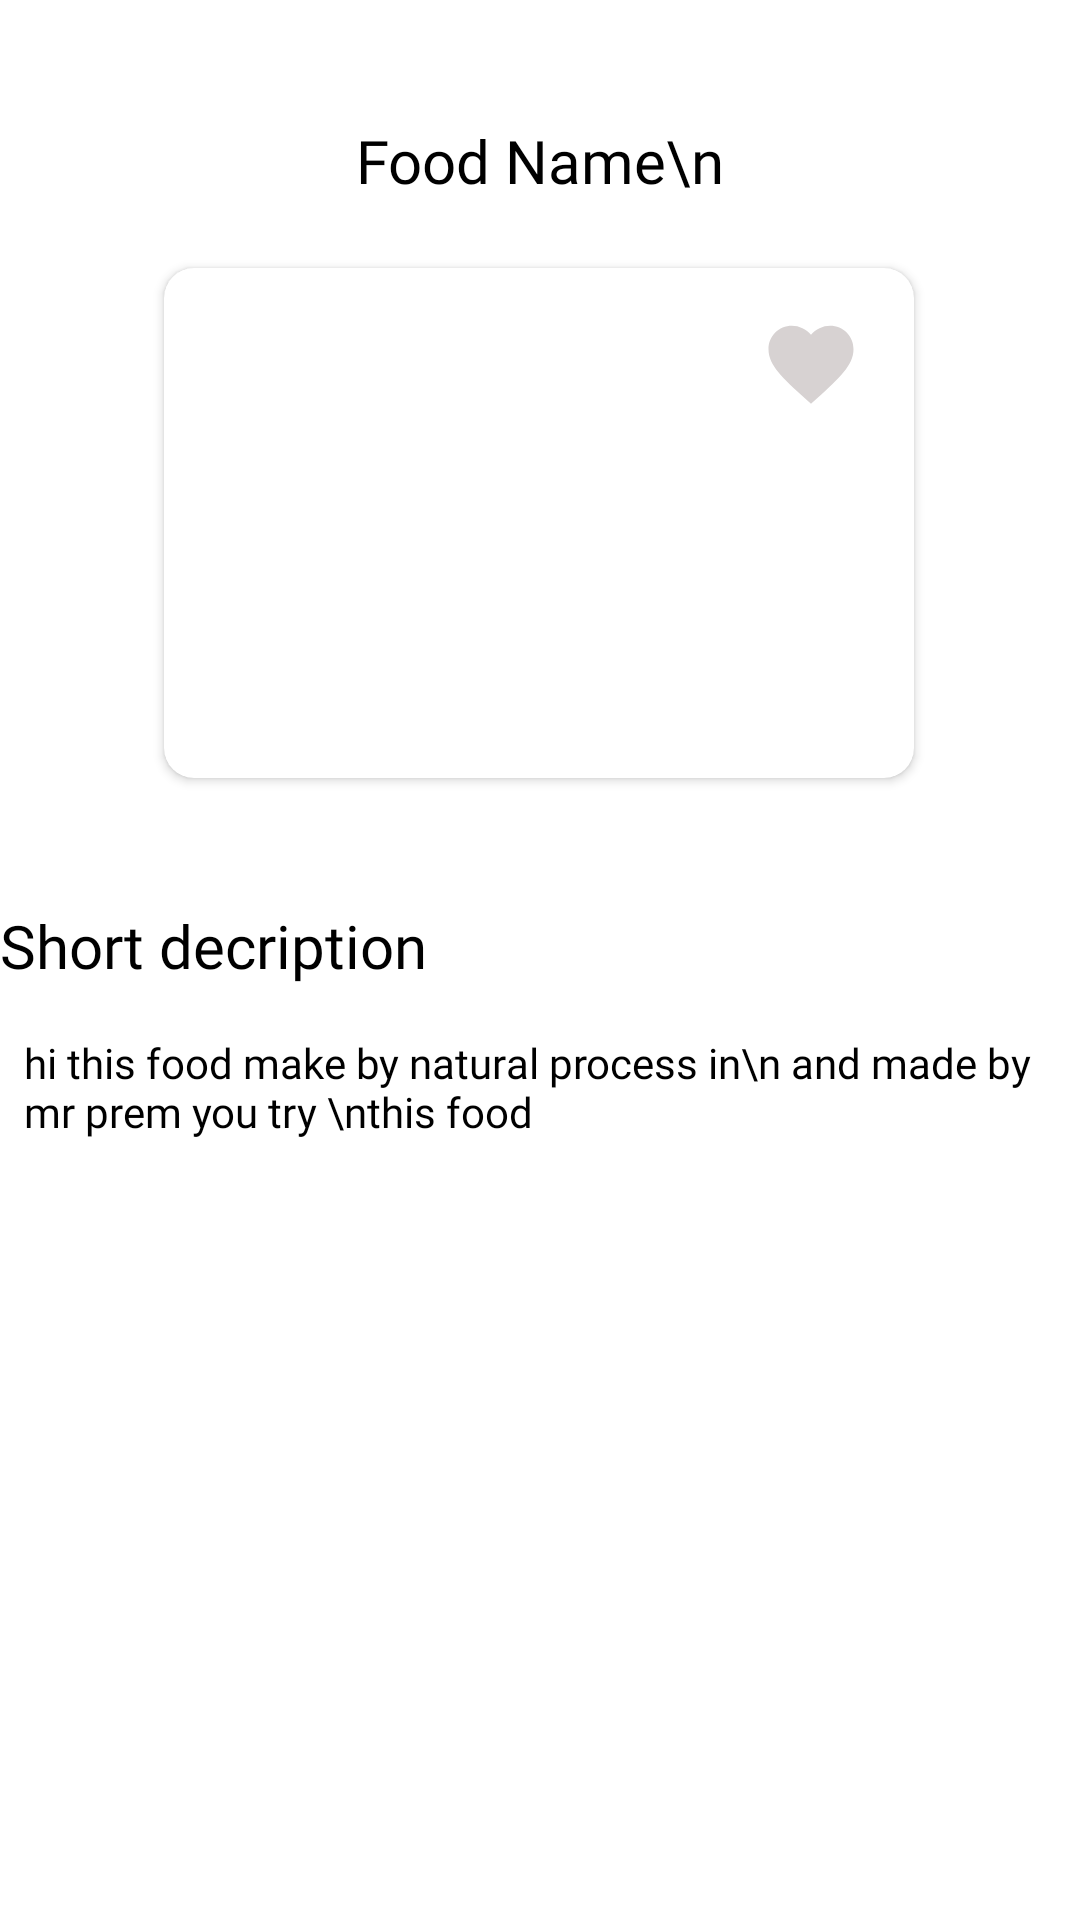

Point at icon controls on the screen. Image size 1080x1920, points as (x,y).
favorite: (811,364)
